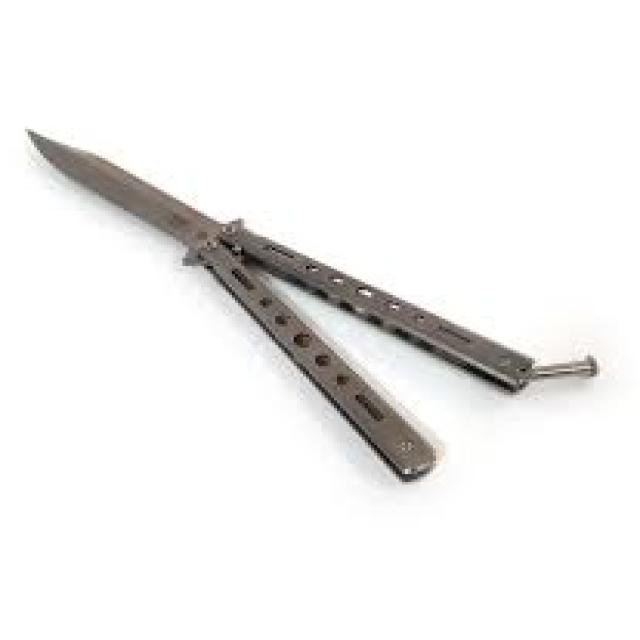knives: (15, 121, 600, 490)
